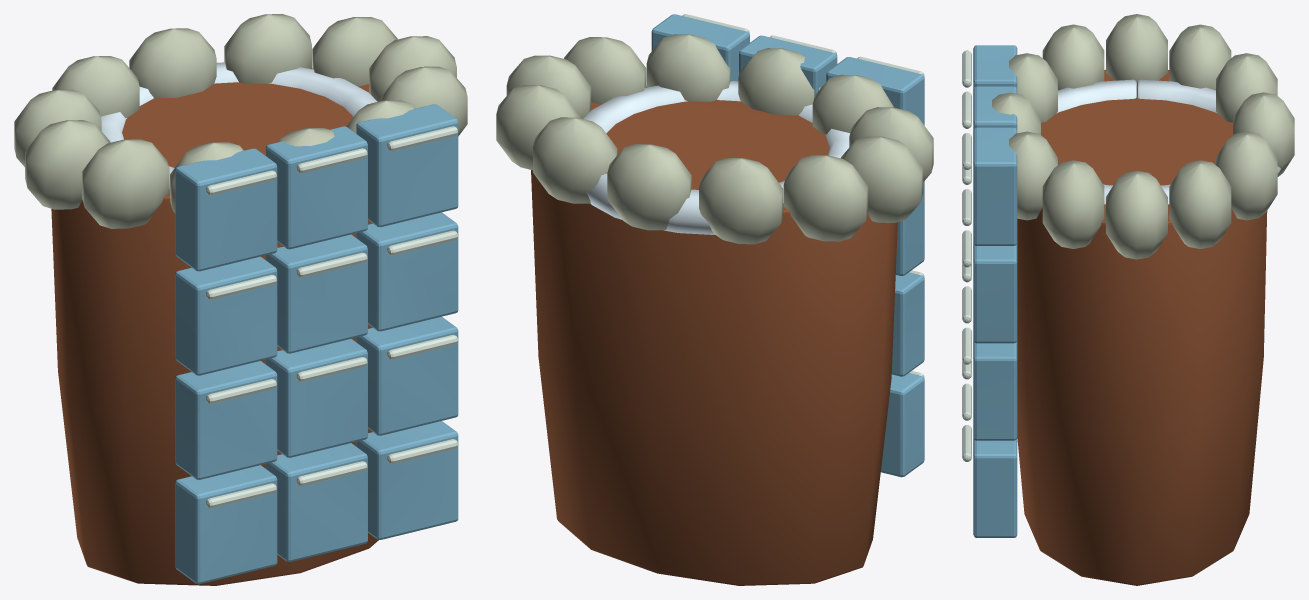
The model's file is item_027.glb.
3 views of the same model, side by side, from view 1: azimuth 30°, elevation 25°; view 2: azimuth 150°, elevation 25°; view 3: azimuth 270°, elevation 25° (orthographic). The views are drawn at different scales.
Parts seen in each view (by area): view 1: Item_027_patched_parka; view 2: Item_027_patched_parka; view 3: Item_027_patched_parka.
Part boxes in pixels (x1=…): Item_027_patched_parka: x1=14, y1=14, x2=467, y2=585; Item_027_patched_parka: x1=496, y1=14, x2=933, y2=585; Item_027_patched_parka: x1=962, y1=14, x2=1294, y2=585.
Size of the model in its own units: 0.4714 by 0.476 by 0.3407.
